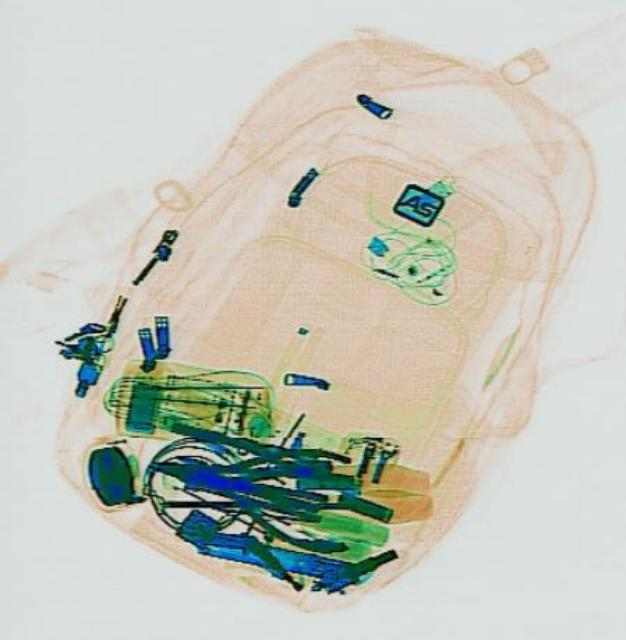Pliers: (135, 408, 369, 558)
